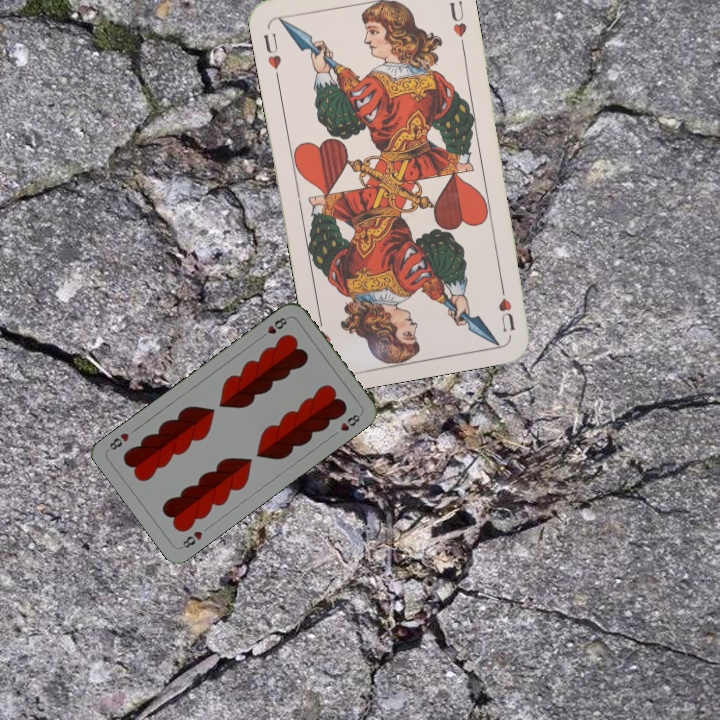H8: (256, 313, 291, 341), (177, 527, 205, 551)
HU: (259, 28, 284, 83), (494, 278, 517, 334)
